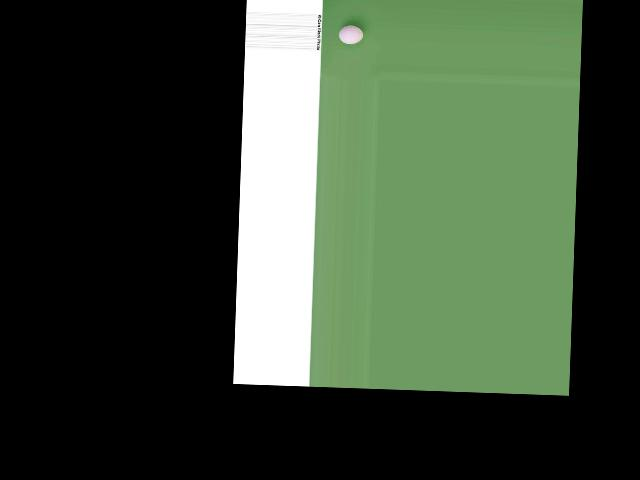egg: (338, 25, 363, 44)
